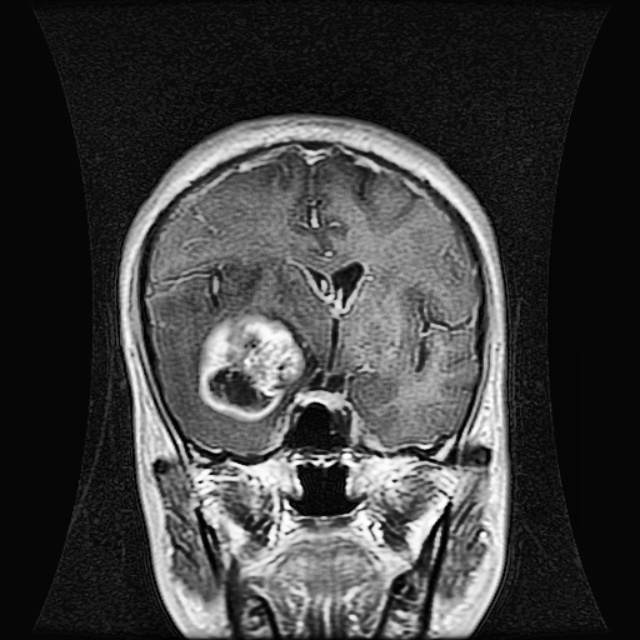Meningioma: (198, 304, 317, 423)
